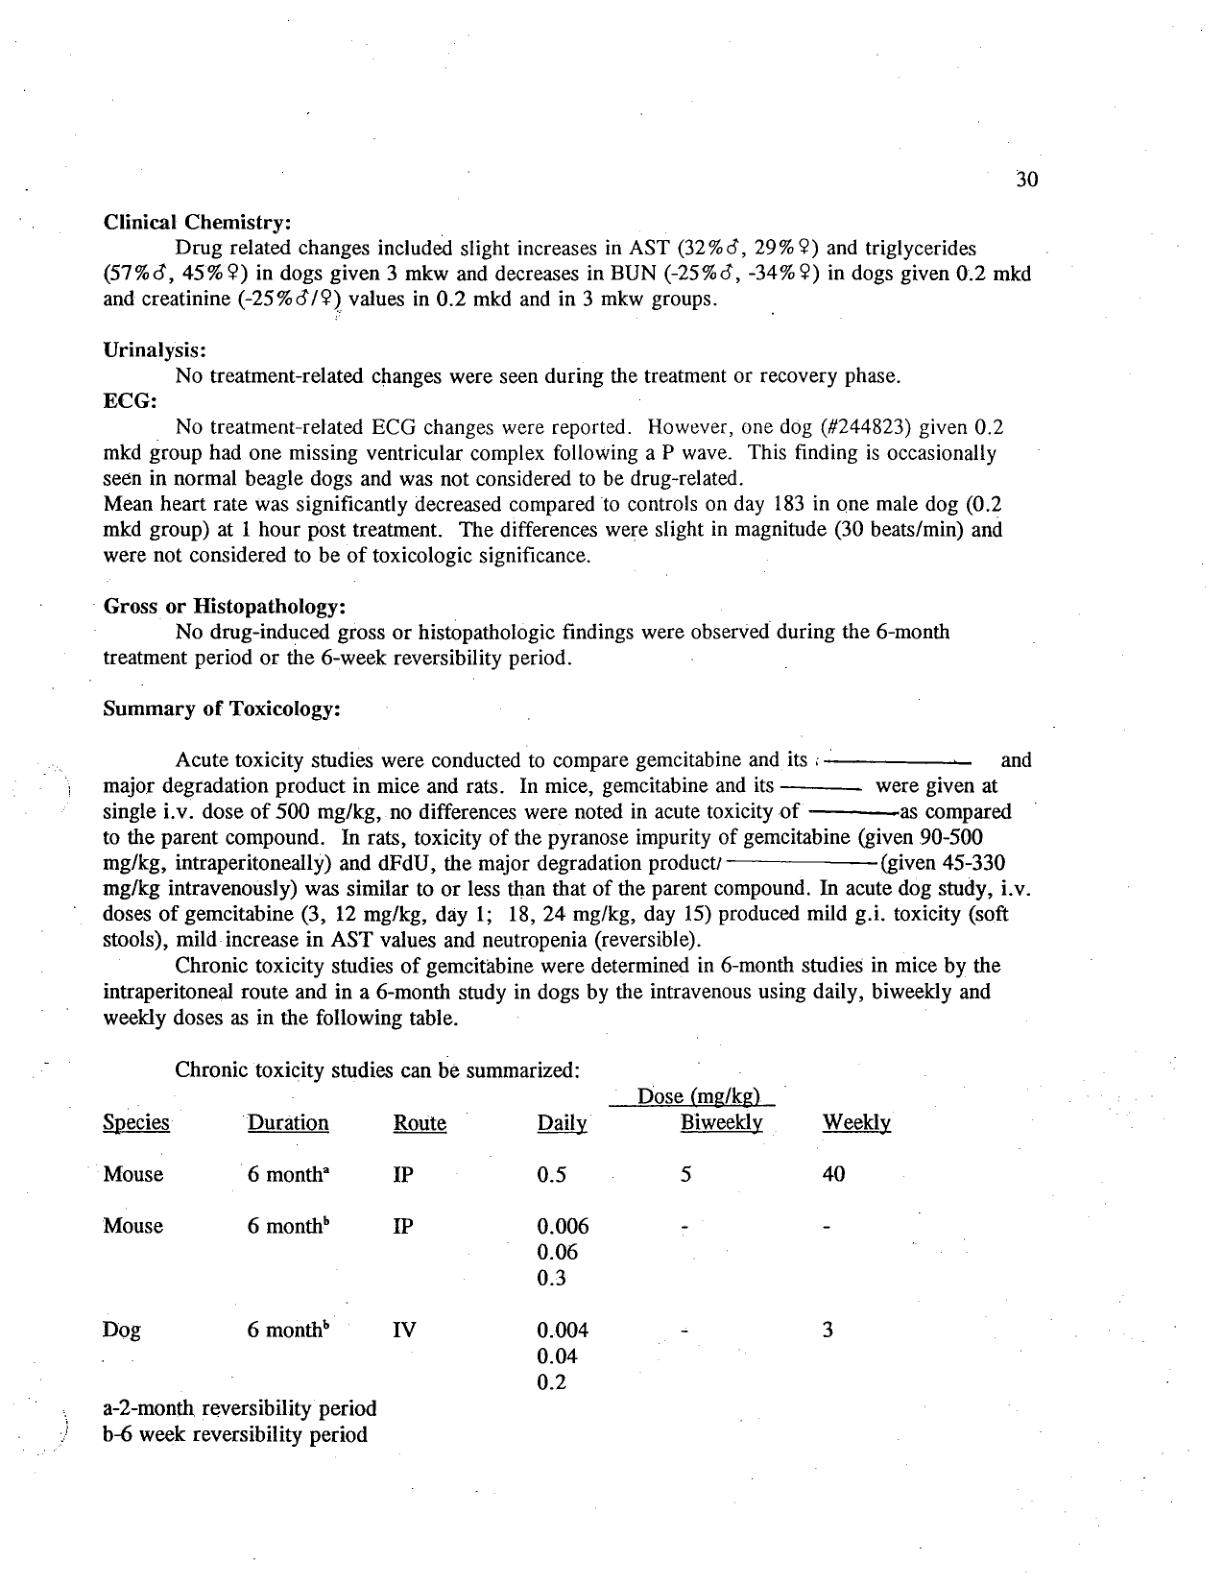nolines: (103, 1086, 894, 1395)
